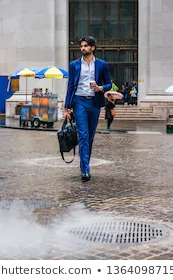F_dress pants: (71, 93, 100, 174)
